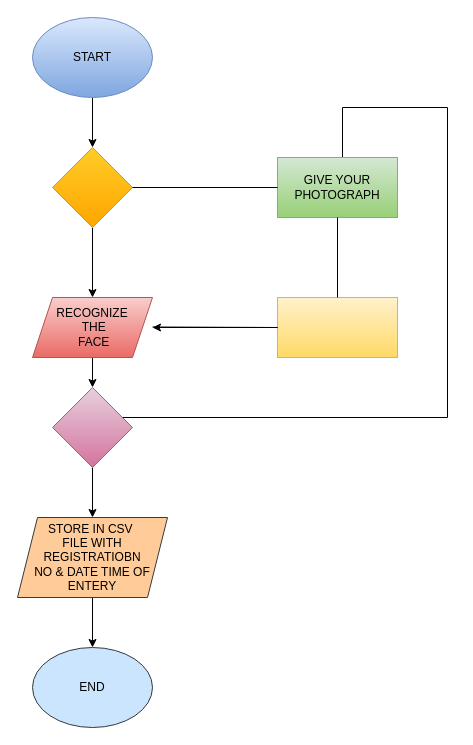
Some shapes in this 473 by 745 pixel diagram are drawn without their labels. The shapes that lost their labels are listed below. From the top down, each one's centre as x and y in pixels, then its label:
At pixel 92 187: "NEW USER".
At pixel 337 327: "STORE THE FACE DATE IN FOLDER ON YOUR NAME".
At pixel 92 427: "FACE RECOGN IZED".
